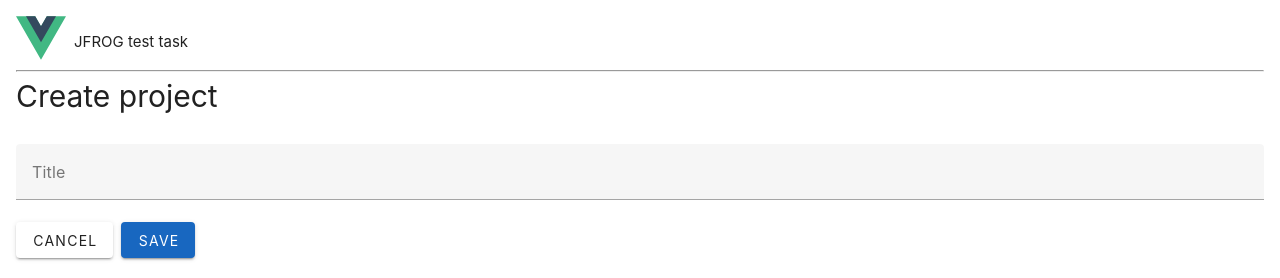
ProjectListRoute › List items
Step 1. Type "Project1" into the field labelled "Title" → (640, 172), box [16,144,1264,200]
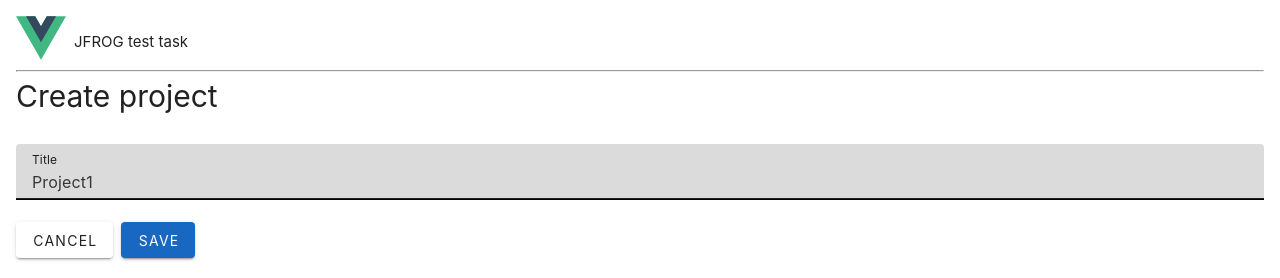
Step 2. Click the button with test id "submit" → (159, 240), box [122,222,196,258]
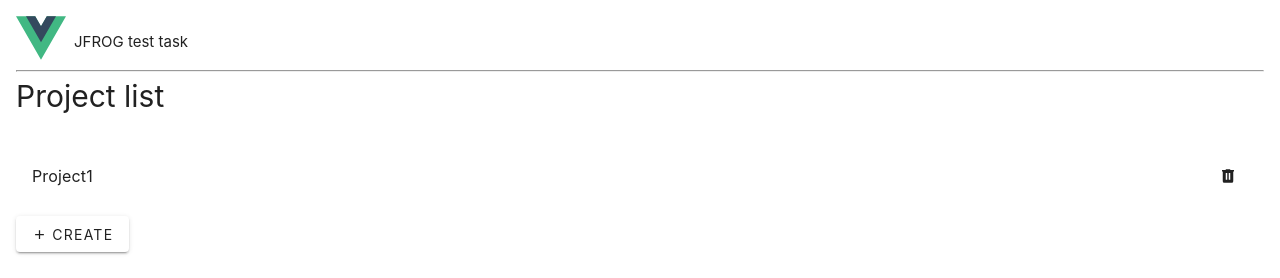
Result: the text "Project1" is shown at [32,166,93,186]
